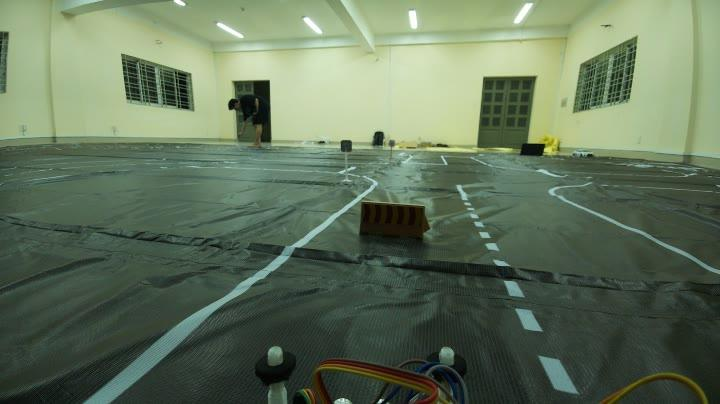roadblock: (350, 194, 443, 249)
